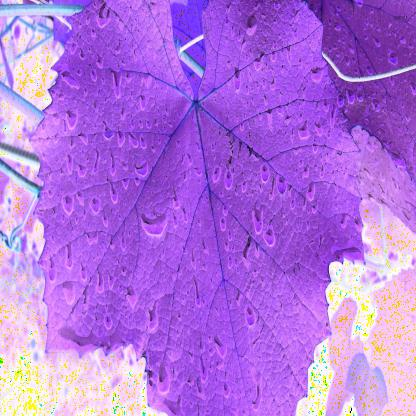grape leaf: (37, 3, 361, 412)
